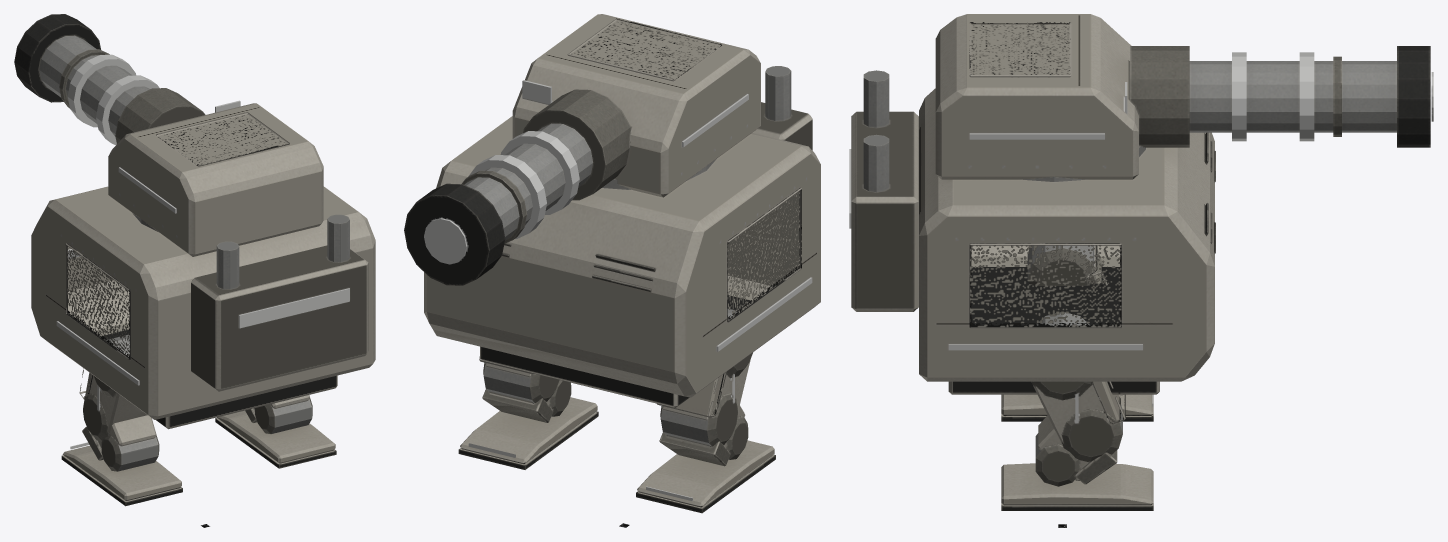
File: ord_fatboy.fbx
3 renders of one model, left to right at view 1: azimuth 30°, elevation 25°; view 2: azimuth 150°, elevation 25°; view 3: azimuth 270°, elevation 25°, orthographic. The views are drawn at different scales.
Parts seen in each view (by area): view 1: base_bar, cannon_bar, footL_bar, footR_bar, shinL_bar, cannon_glow_power_bar, thighL_bar, shinR_bar, base_glow_power_bar, base_glow_running_bar; view 2: base_bar, cannon_bar, footR_bar, footL_bar, thighL_bar, cannon_glow_power_bar, thighR_bar, shinL_bar, shinR_bar, cannon_glow_weapon_bar, base_glow_running_bar, cannon_glow_head_bar (+1 smaller); view 3: base_bar, cannon_bar, footR_bar, thighR_bar, cannon_glow_power_bar, shinR_bar, thighL_bar, footL_bar, base_glow_running_bar, cannon_glow_running_bar.
Part boxes in pixels (x1=…): base_bar: x1=31, y1=186, x2=375, y2=429; cannon_bar: x1=14, y1=14, x2=323, y2=256; footL_bar: x1=61, y1=445, x2=182, y2=506; footR_bar: x1=215, y1=410, x2=336, y2=468; shinL_bar: x1=82, y1=415, x2=159, y2=471; cannon_glow_power_bar: x1=67, y1=54, x2=159, y2=145; thighL_bar: x1=79, y1=334, x2=147, y2=441; shinR_bar: x1=245, y1=395, x2=312, y2=433; base_glow_power_bar: x1=68, y1=249, x2=349, y2=328; base_glow_running_bar: x1=56, y1=321, x2=139, y2=385; base_bar: x1=424, y1=66, x2=820, y2=407; cannon_bar: x1=404, y1=14, x2=760, y2=285; footR_bar: x1=458, y1=397, x2=598, y2=469; footL_bar: x1=636, y1=440, x2=775, y2=513; thighL_bar: x1=657, y1=308, x2=752, y2=446; cannon_glow_power_bar: x1=468, y1=131, x2=579, y2=238; thighR_bar: x1=479, y1=356, x2=559, y2=403; shinL_bar: x1=659, y1=405, x2=748, y2=466; shinR_bar: x1=482, y1=380, x2=571, y2=422; cannon_glow_weapon_bar: x1=424, y1=218, x2=467, y2=264; base_glow_running_bar: x1=716, y1=277, x2=812, y2=351; cannon_glow_head_bar: x1=522, y1=80, x2=551, y2=104; base_bar: x1=851, y1=70, x2=1215, y2=394; cannon_bar: x1=935, y1=14, x2=1430, y2=179; footR_bar: x1=1001, y1=463, x2=1153, y2=510; thighR_bar: x1=1031, y1=312, x2=1125, y2=462; cannon_glow_power_bar: x1=1232, y1=52, x2=1314, y2=141; shinR_bar: x1=1035, y1=415, x2=1117, y2=486; thighL_bar: x1=1027, y1=245, x2=1108, y2=285; footL_bar: x1=1001, y1=394, x2=1153, y2=421; base_glow_running_bar: x1=948, y1=344, x2=1142, y2=350; cannon_glow_running_bar: x1=969, y1=133, x2=1104, y2=139.
Bounding box in the file's own units: 750 × 1246 × 1382.
Materials: 2 (2 with a texture image).
